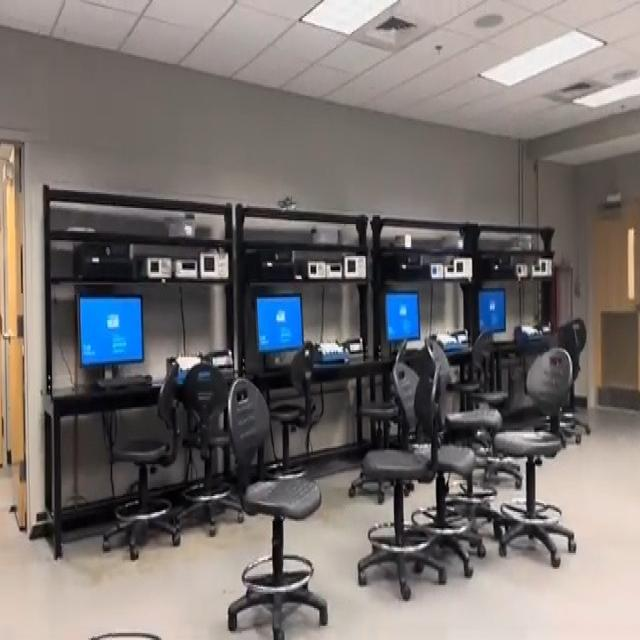drone: (264, 179, 305, 223)
